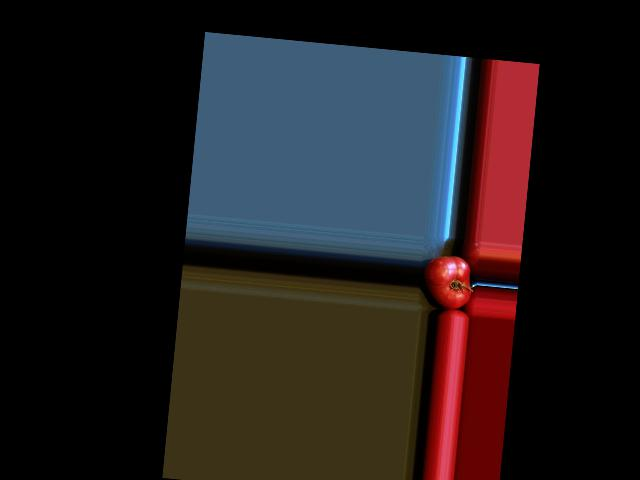tomato: (420, 253, 473, 310)
